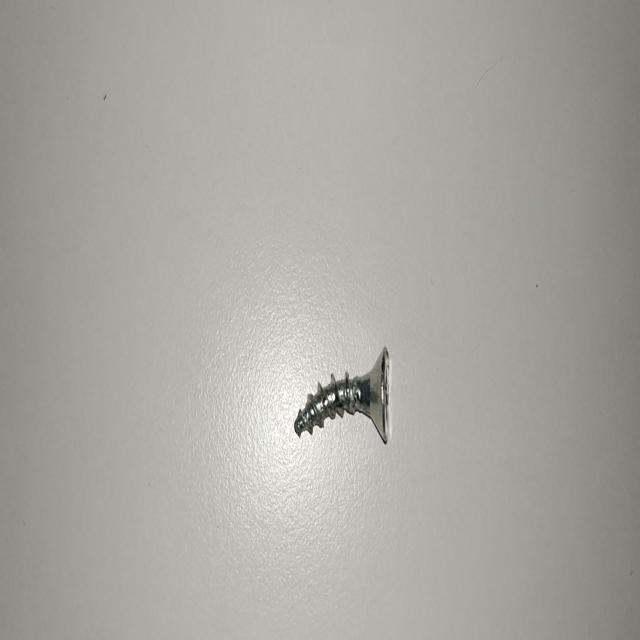Screw: (294, 347, 389, 443)
